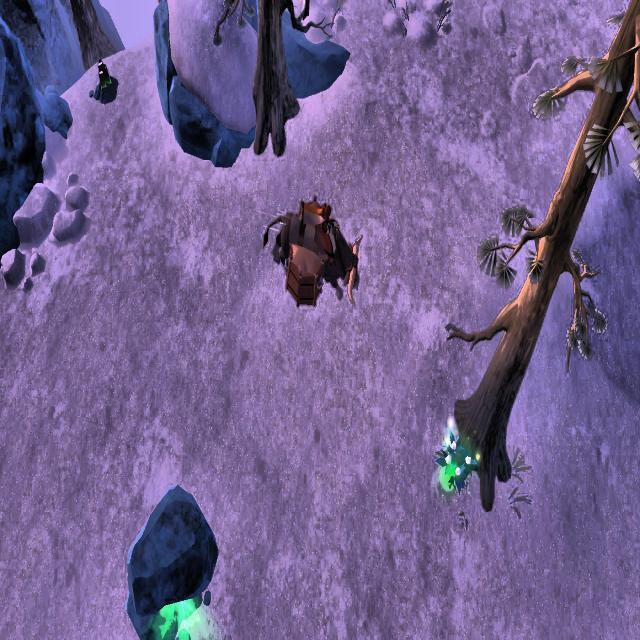fiber_t4: (436, 424, 477, 492)
ore_t3: (94, 57, 111, 95)
